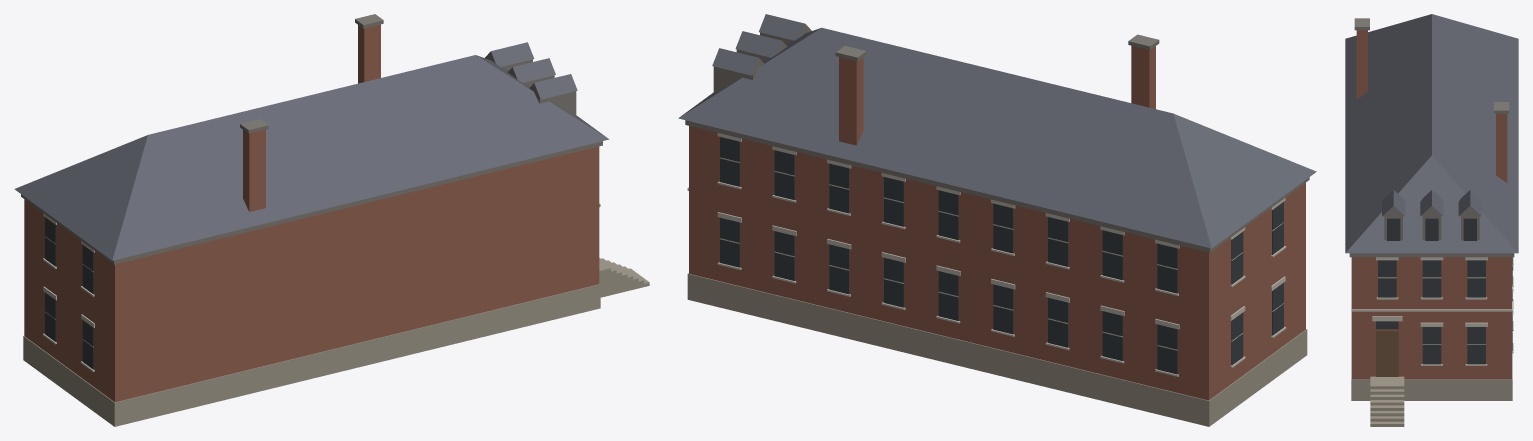
The model's file is house_1619_indiana__draft_1904.glb.
3 views of the same model, side by side, from view 1: azimuth 30°, elevation 25°; view 2: azimuth 150°, elevation 25°; view 3: azimuth 270°, elevation 25° (orthographic). The views are drawn at different scales.
Parts seen in each view (by area): view 1: house_1619_indiana__draft_1904; view 2: house_1619_indiana__draft_1904; view 3: house_1619_indiana__draft_1904.
Part boxes in pixels (x1,y1,x2,y2): house_1619_indiana__draft_1904: (14, 14, 649, 426); house_1619_indiana__draft_1904: (678, 14, 1316, 426); house_1619_indiana__draft_1904: (1345, 14, 1518, 426).
Size of the model in its own units: 29.9 by 13.58 by 9.2.
